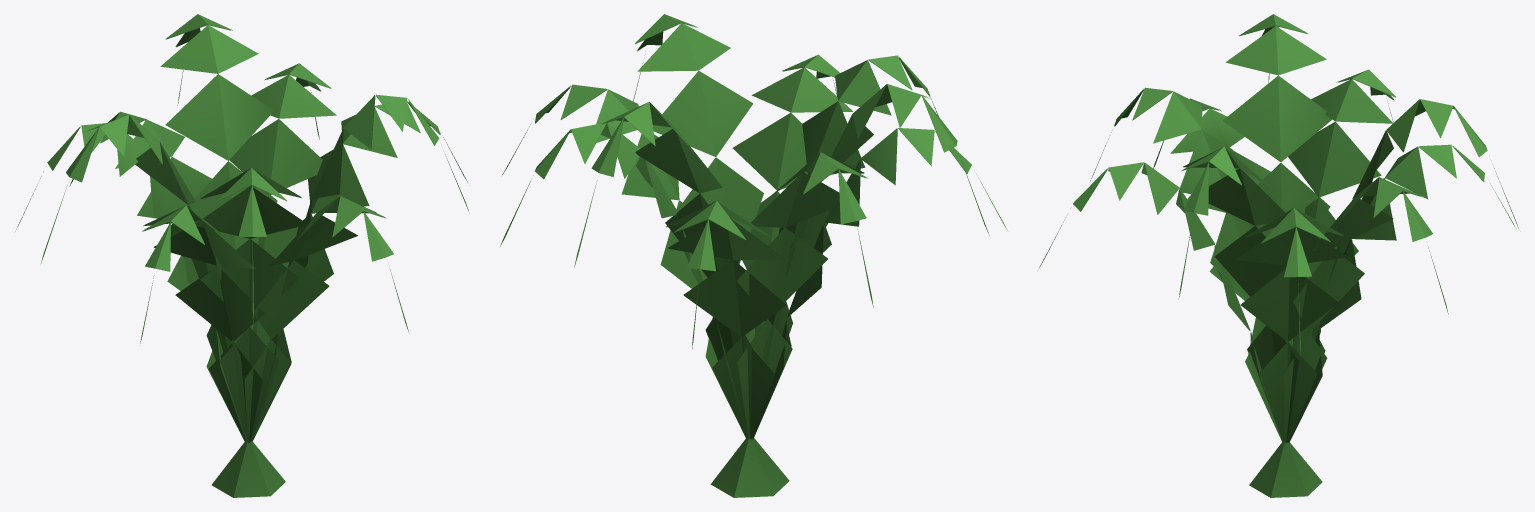
Rendered from fern_tall.glb.
3 views of the same model, side by side, from view 1: azimuth 30°, elevation 25°; view 2: azimuth 150°, elevation 25°; view 3: azimuth 270°, elevation 25° (orthographic). The views are drawn at different scales.
Bounding box in the file's own units: 1.1 × 0.9474 × 1.04.
